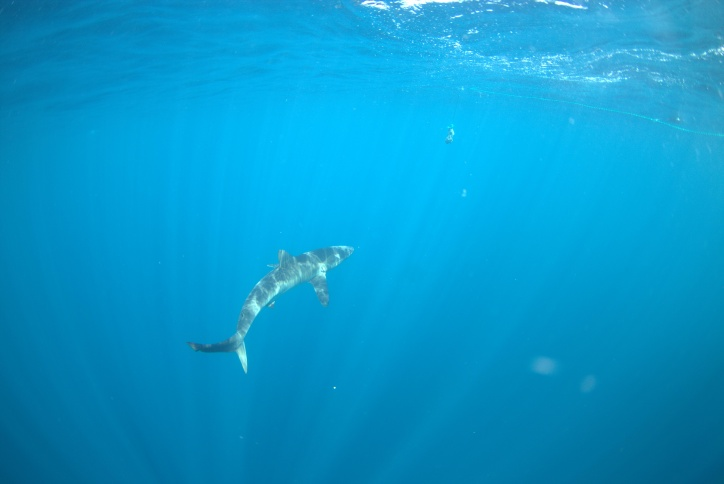Sedoso: (184, 237, 363, 382)
